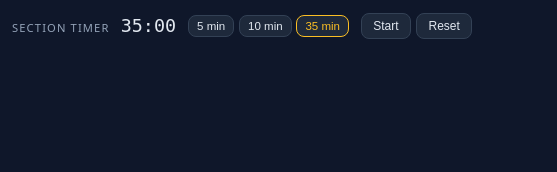
it: SectionTimer › paces a short drill against the short clock
Click the radio button labelled "5 min": coordinates (211, 26) top-left (188, 15), bottom-right (234, 37)
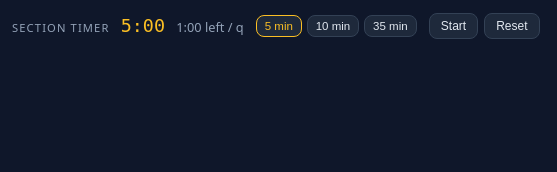
expect the text named "time remaining per question" reads "1:00 left / q": met, box top-left (176, 18), bottom-right (244, 38)
